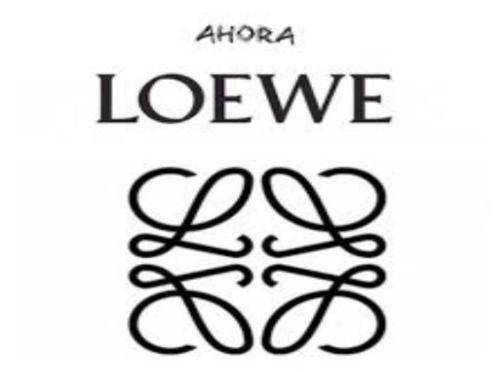LOEWE: (76, 59, 400, 361)
